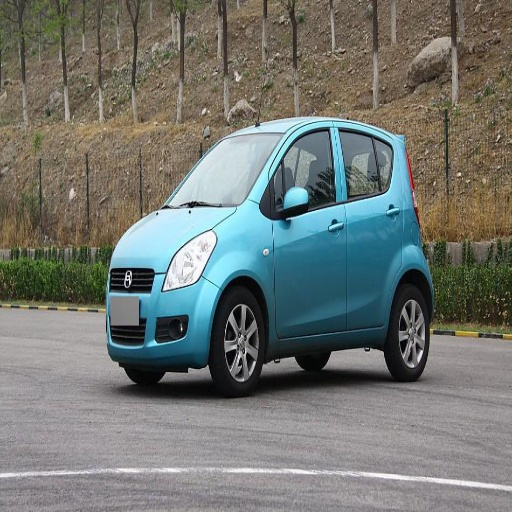front_bumper: (106, 252, 221, 369)
front_glass: (167, 134, 278, 207)
front_left_door: (271, 124, 346, 338)
